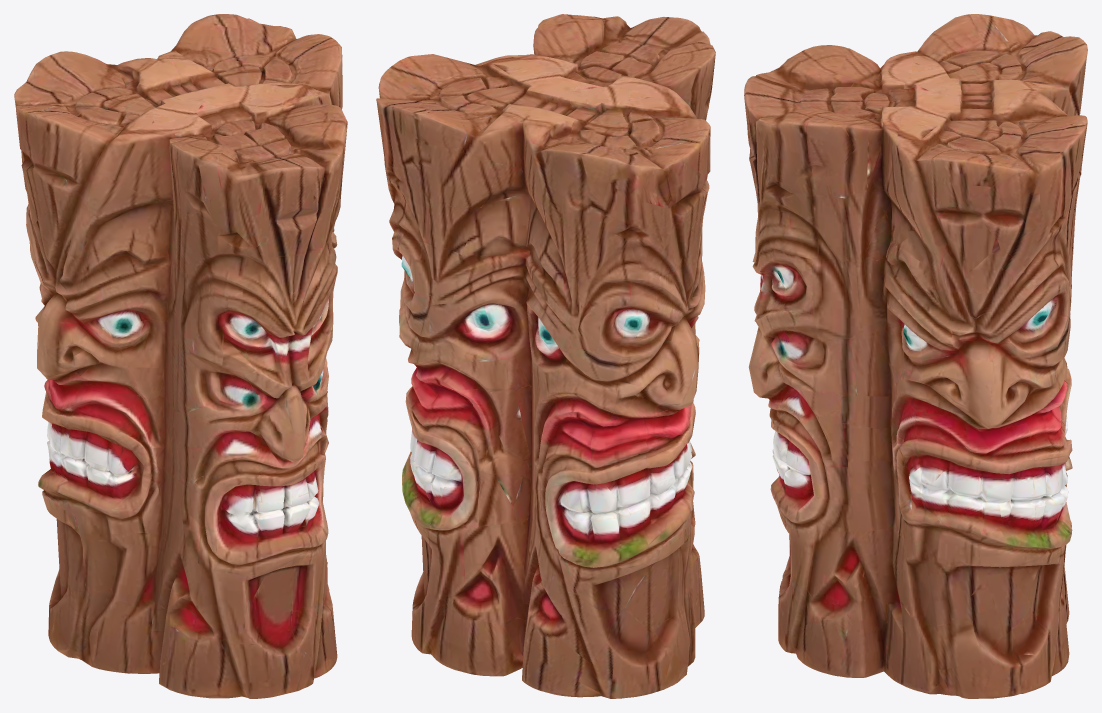
File: totem_tiki.glb
The picture shows the model from 3 angles, left to right: view 1: azimuth 30°, elevation 25°; view 2: azimuth 150°, elevation 25°; view 3: azimuth 270°, elevation 25°; orthographic projection.
Bounding box in the file's own units: 1.11 × 1.9 × 1.07.
Materials: 1 (1 with a texture image).
